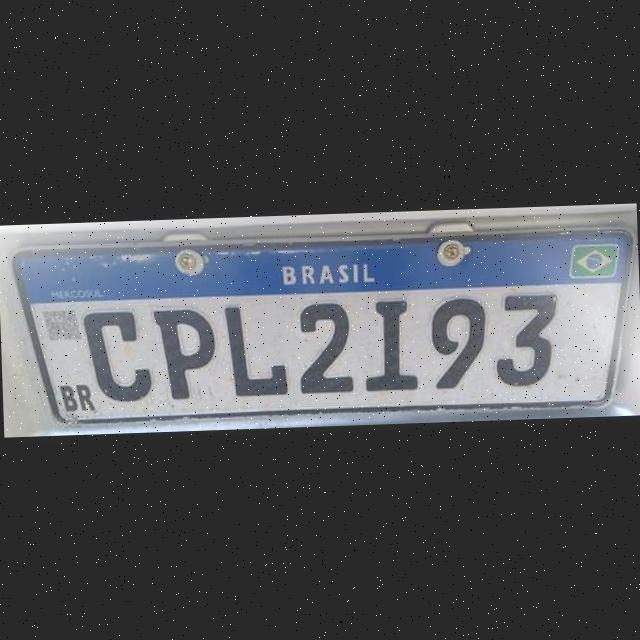Caractere: (79, 306, 155, 404), (220, 302, 290, 402), (496, 286, 562, 388), (152, 304, 218, 405), (426, 294, 492, 392), (296, 297, 354, 397), (363, 294, 419, 392)
Placa: (5, 224, 633, 428)
